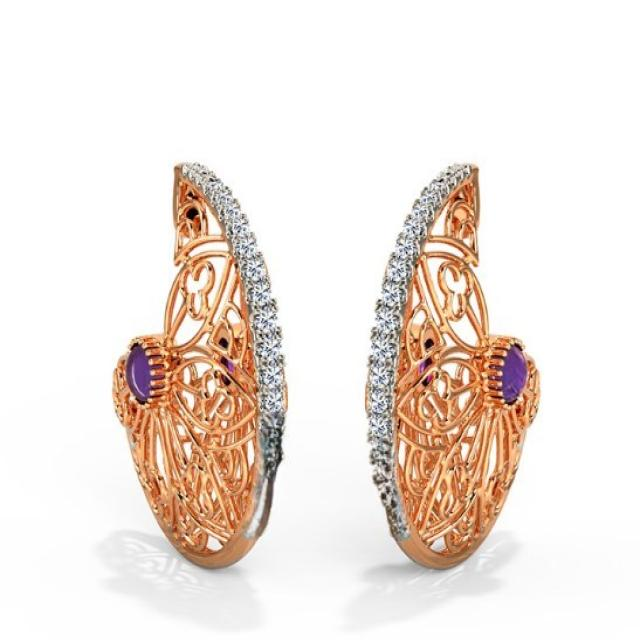missing gem: (259, 430, 282, 453), (259, 458, 277, 480), (254, 504, 270, 521), (258, 484, 271, 504), (249, 520, 263, 537)
